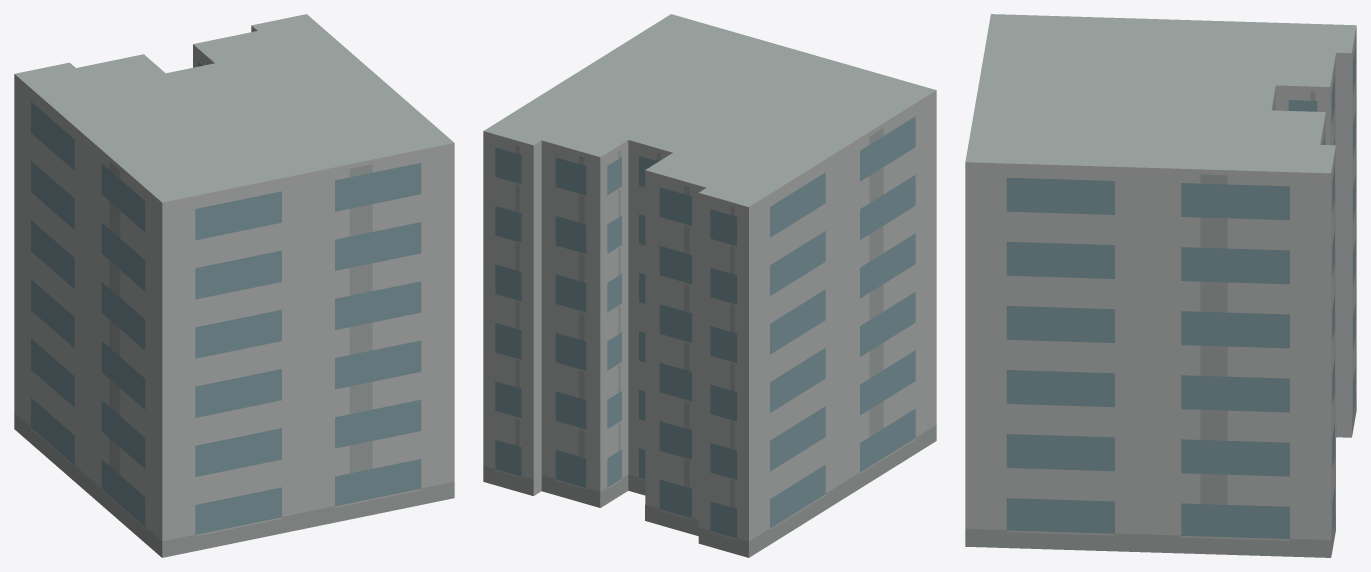
Rendered from survey-upis-32768142.glb.
3 views of the same model, side by side, from view 1: azimuth 30°, elevation 25°; view 2: azimuth 150°, elevation 25°; view 3: azimuth 270°, elevation 25° (orthographic). The views are drawn at different scales.
Visible parts, largest first — view 1: survey-upis-32768142.tmp; view 2: survey-upis-32768142.tmp; view 3: survey-upis-32768142.tmp.
Part boxes in pixels (x1,y1,x2,y2): survey-upis-32768142.tmp: [14, 14, 454, 557]; survey-upis-32768142.tmp: [483, 14, 936, 557]; survey-upis-32768142.tmp: [965, 14, 1356, 557].
Bounding box in the file's own units: 16.45 × 18.5 × 17.07.
